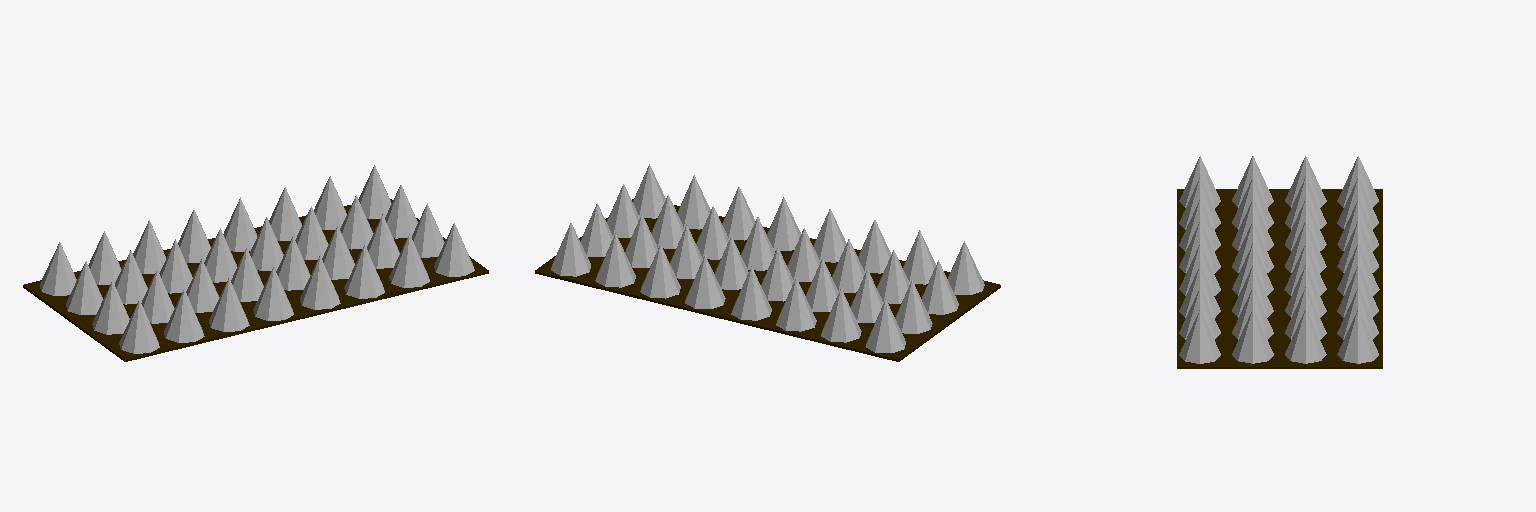
Rendered from Spikes.obj.
3 renders of one model, left to right at view 1: azimuth 30°, elevation 25°; view 2: azimuth 150°, elevation 25°; view 3: azimuth 270°, elevation 25°, orthographic.
Visible parts, largest first — view 1: Box001, Cone001, Cone012, Cone018, Cone028, Cone032, Cone008, Cone013, Cone017, Cone002, Cone003, Cone004 (+21 smaller); view 2: Box001, Cone004, Cone021, Cone005, Cone009, Cone025, Cone016, Cone022, Cone031, Cone002, Cone003, Cone001 (+21 smaller); view 3: Box001, Cone029, Cone031, Cone032, Cone030, Cone011, Cone012, Cone009, Cone010, Cone007, Cone021, Cone023 (+21 smaller).
Part boxes in pixels (x1,y1,x2,y2): Box001: (23,199,488,361); Cone001: (119,299,159,353); Cone012: (253,267,293,320); Cone018: (300,256,340,309); Cone028: (389,234,429,287); Cone032: (434,223,474,276); Cone008: (164,289,204,342); Cone013: (209,278,249,331); Cone017: (344,245,384,298); Cone002: (92,280,129,334); Cone003: (66,261,102,314); Cone004: (39,242,76,295); Box001: (535,199,1000,361); Cone004: (865,299,905,352); Cone021: (685,255,725,308); Cone005: (821,288,861,342); Cone009: (731,266,771,320); Cone025: (595,233,635,287); Cone016: (776,277,816,331); Cone022: (640,244,680,298); Cone031: (551,223,590,276); Cone002: (922,260,958,314); Cone003: (895,280,932,333); Cone001: (948,241,984,294); Box001: (1177,189,1382,368); Cone029: (1232,310,1273,363); Cone031: (1337,309,1378,363); Cone032: (1179,310,1220,363); Cone030: (1285,309,1326,363); Cone011: (1232,222,1273,272); Cone012: (1179,222,1220,273); Cone009: (1337,221,1378,272); Cone010: (1285,221,1326,272); Cone007: (1232,178,1273,229); Cone021: (1337,244,1379,295); Cone023: (1285,265,1326,317).
Size of the model in its own units: 81.01 by 10.32 by 39.52.